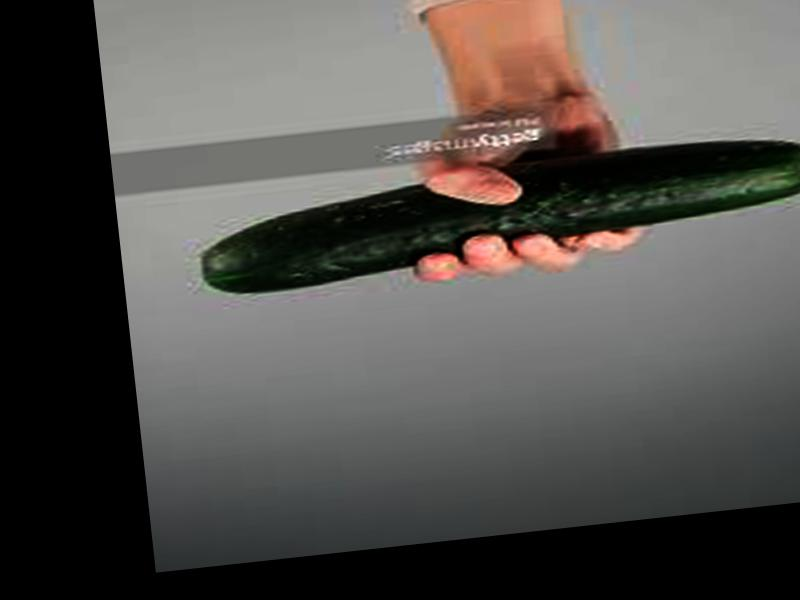Cucumber: (194, 131, 800, 299)
